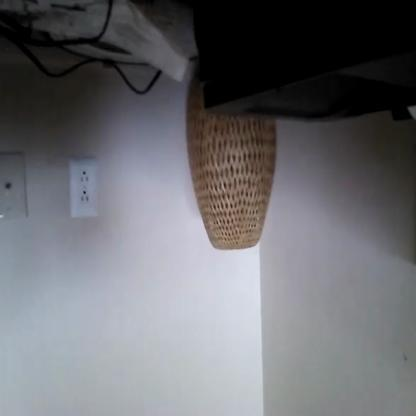OUTLET: (69, 158, 97, 218)
